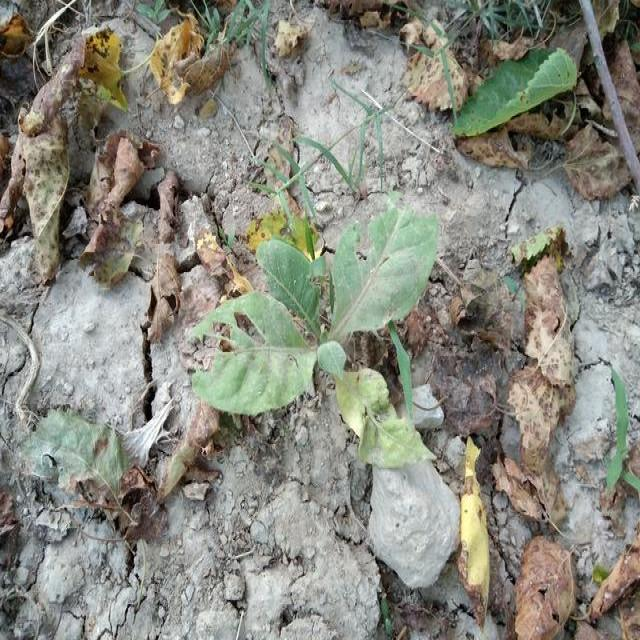crop: (185, 211, 431, 466)
